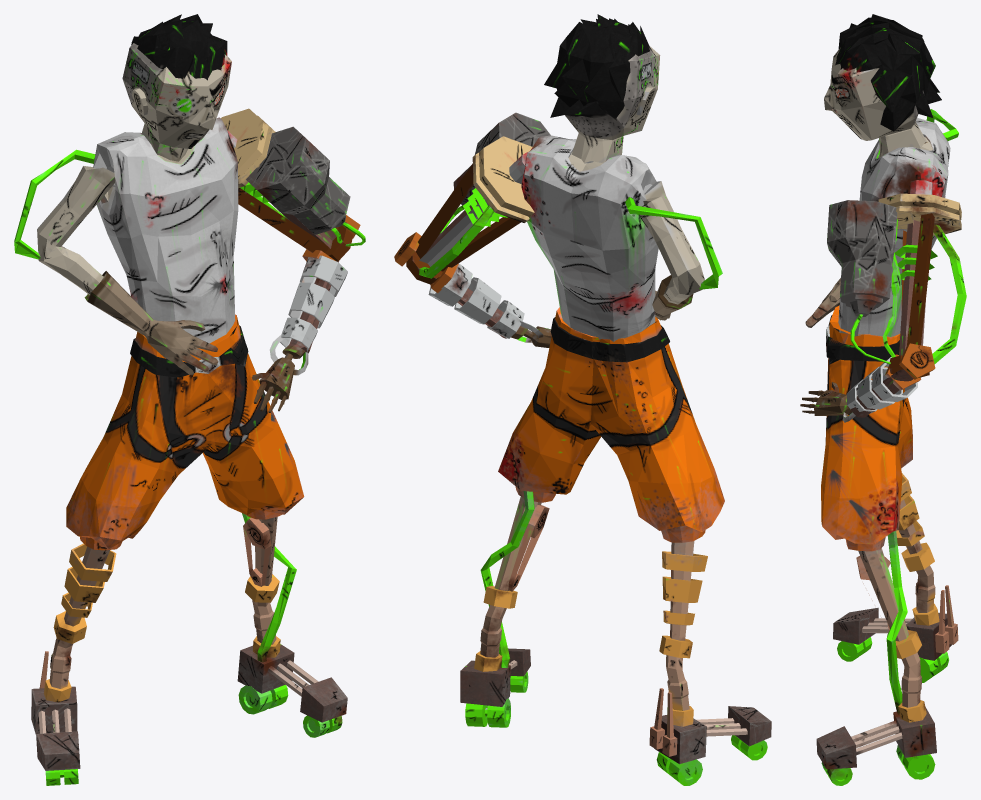
File: CyborgFINALAnimation_000065.obj
The picture shows the model from 3 angles, left to right: view 1: azimuth 30°, elevation 25°; view 2: azimuth 150°, elevation 25°; view 3: azimuth 270°, elevation 25°; orthographic projection. The views are drawn at different scales.
Parts seen in each view (by area): view 1: CyborgMesh_Cube.002; view 2: CyborgMesh_Cube.002; view 3: CyborgMesh_Cube.002.
Boxes of the visible parts, x1,y1,x2,y2 form: CyborgMesh_Cube.002: (14,14,365,785); CyborgMesh_Cube.002: (394,14,771,785); CyborgMesh_Cube.002: (800,14,966,785).
Size of the model in its own units: 4.78 by 9.57 by 2.05.
